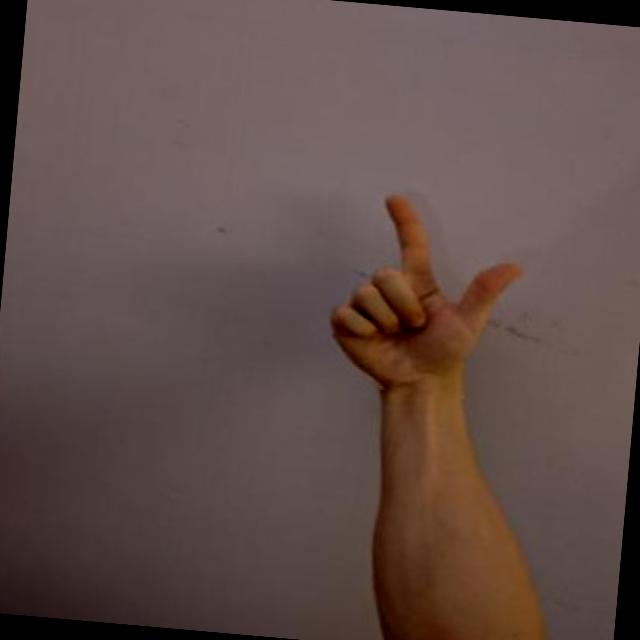L: (311, 185, 539, 406)
